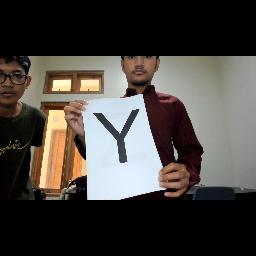y: (92, 106, 144, 168)
